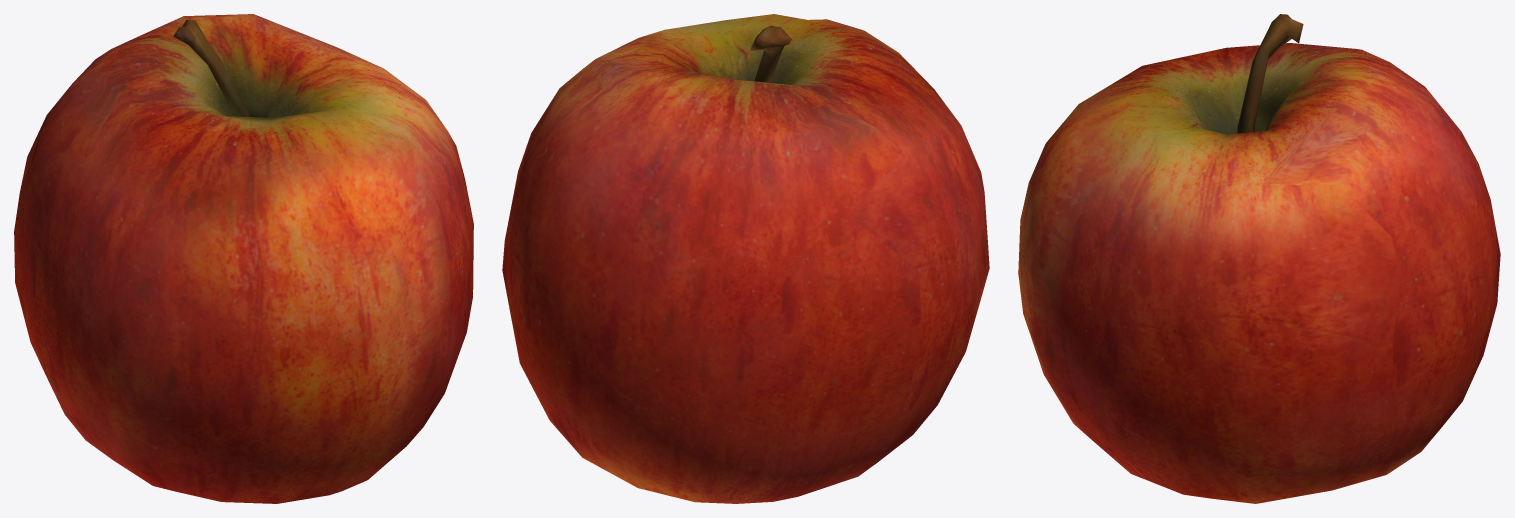
Rendered from apple-v1.glb.
3 views of the same model, side by side, from view 1: azimuth 30°, elevation 25°; view 2: azimuth 150°, elevation 25°; view 3: azimuth 270°, elevation 25° (orthographic). The views are drawn at different scales.
Visible parts, largest first — view 1: apple_low_obj; view 2: apple_low_obj; view 3: apple_low_obj.
Boxes of the visible parts, bbox=[...] form: apple_low_obj: bbox=[14, 14, 473, 503]; apple_low_obj: bbox=[502, 14, 989, 503]; apple_low_obj: bbox=[1018, 14, 1500, 503].
Size of the model in its own units: 8.57 by 9 by 9.24.
1 material, 1 textured.
